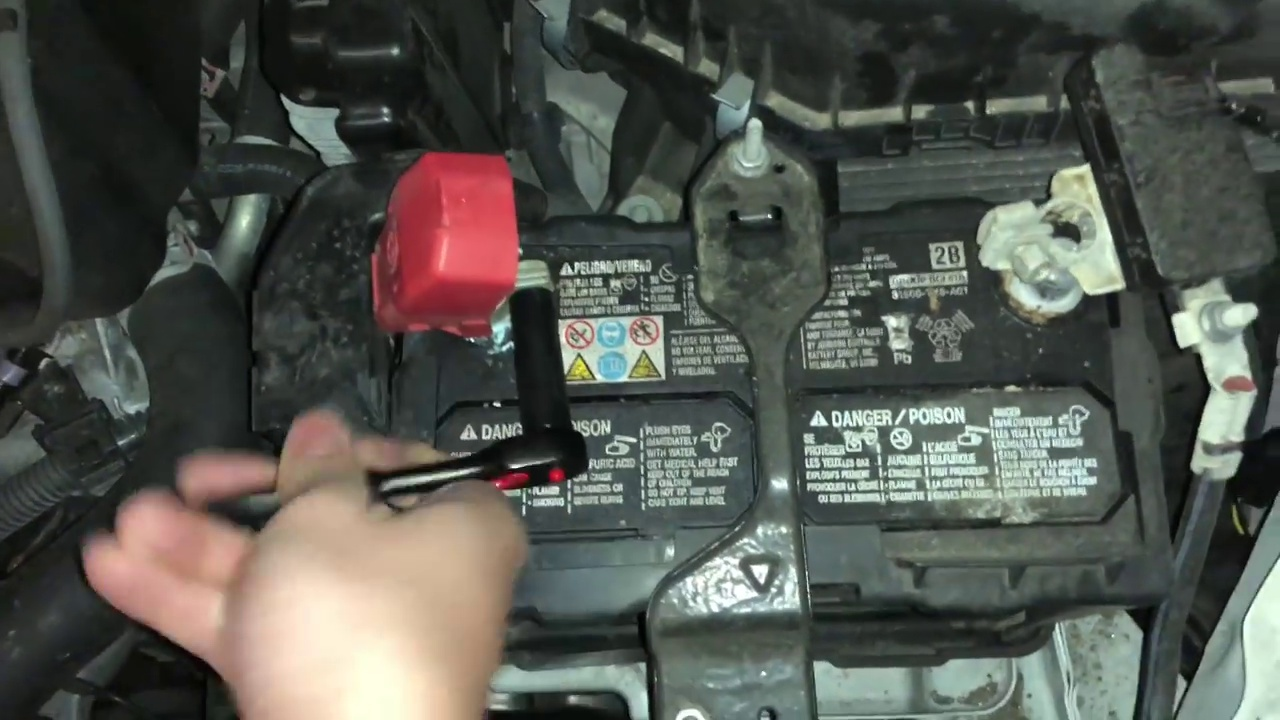battery: (366, 184, 1168, 604)
neg_connected: (972, 146, 1128, 327)
pos_connected: (356, 141, 574, 355)
pos_touched: (292, 161, 570, 686)
